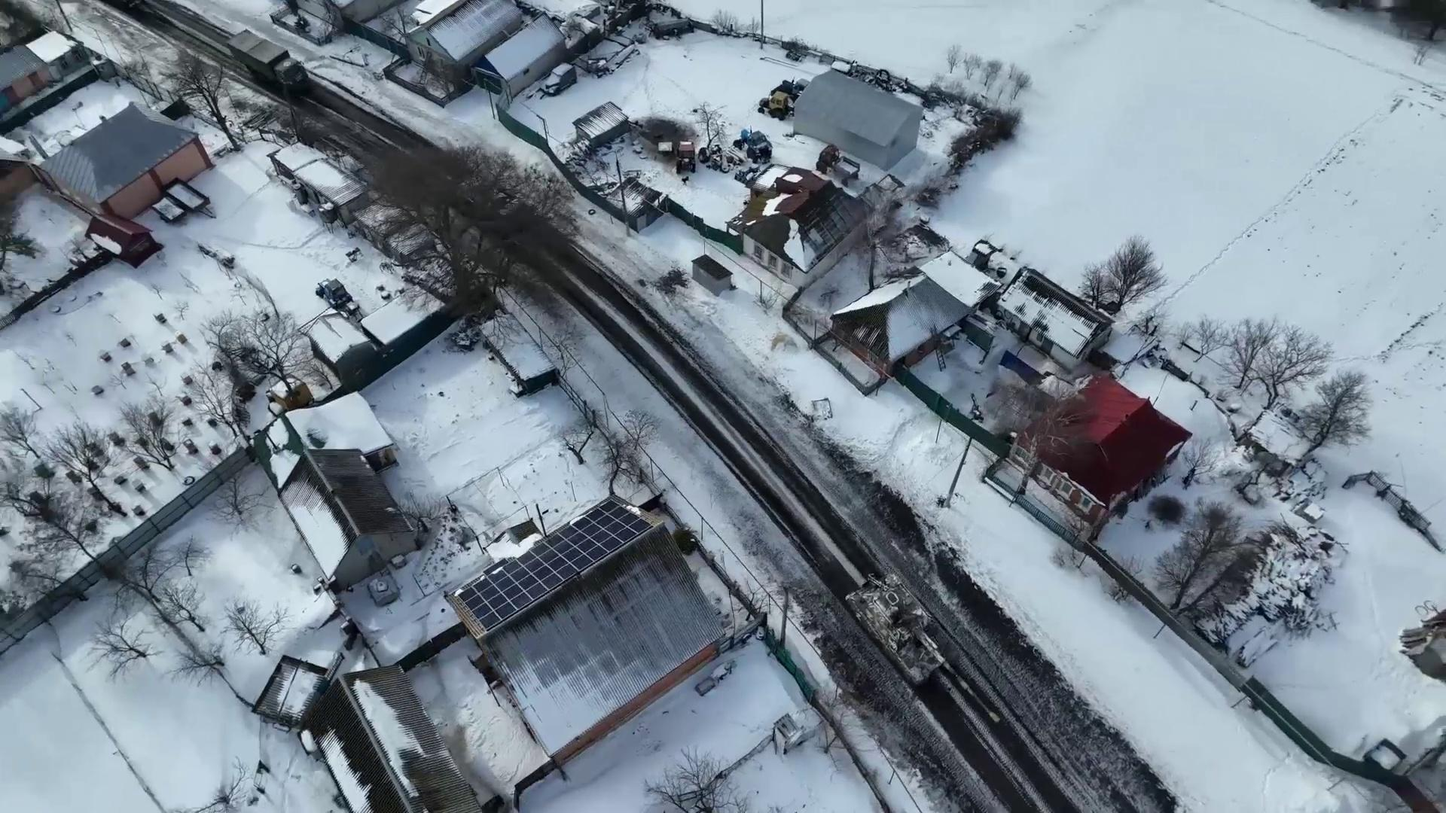car: (734, 126, 773, 163), (315, 277, 352, 313), (759, 91, 793, 120)
sau: (844, 571, 1004, 724)
truck: (227, 29, 310, 93)
